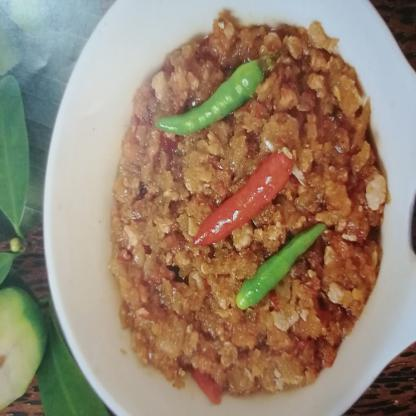Namprig: (80, 20, 380, 414)
